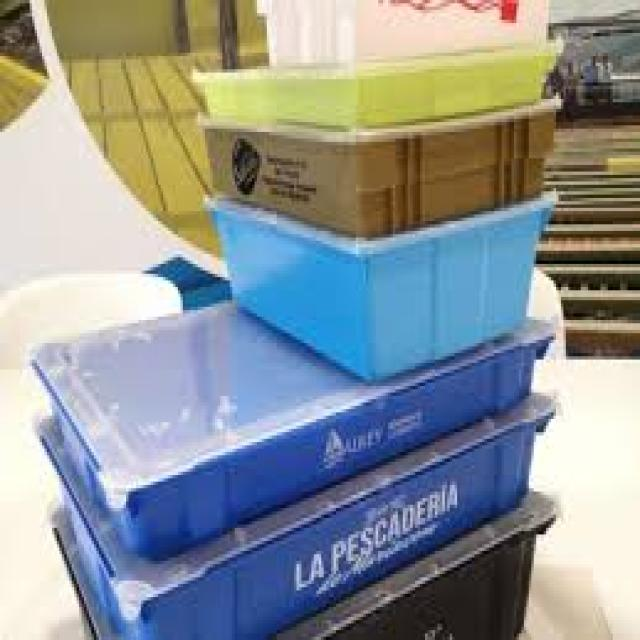basket: (26, 158, 575, 578), (39, 396, 558, 640), (210, 190, 554, 384), (205, 102, 561, 243), (277, 492, 558, 640), (192, 46, 558, 133)
